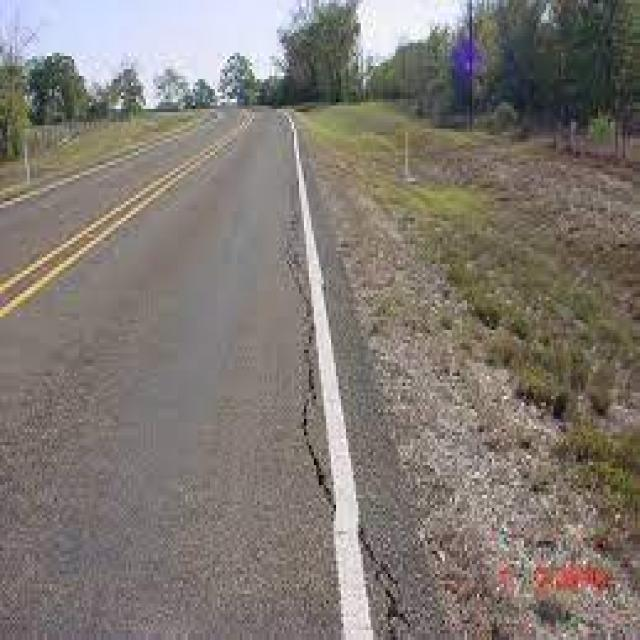Pothole: (246, 194, 496, 640)
